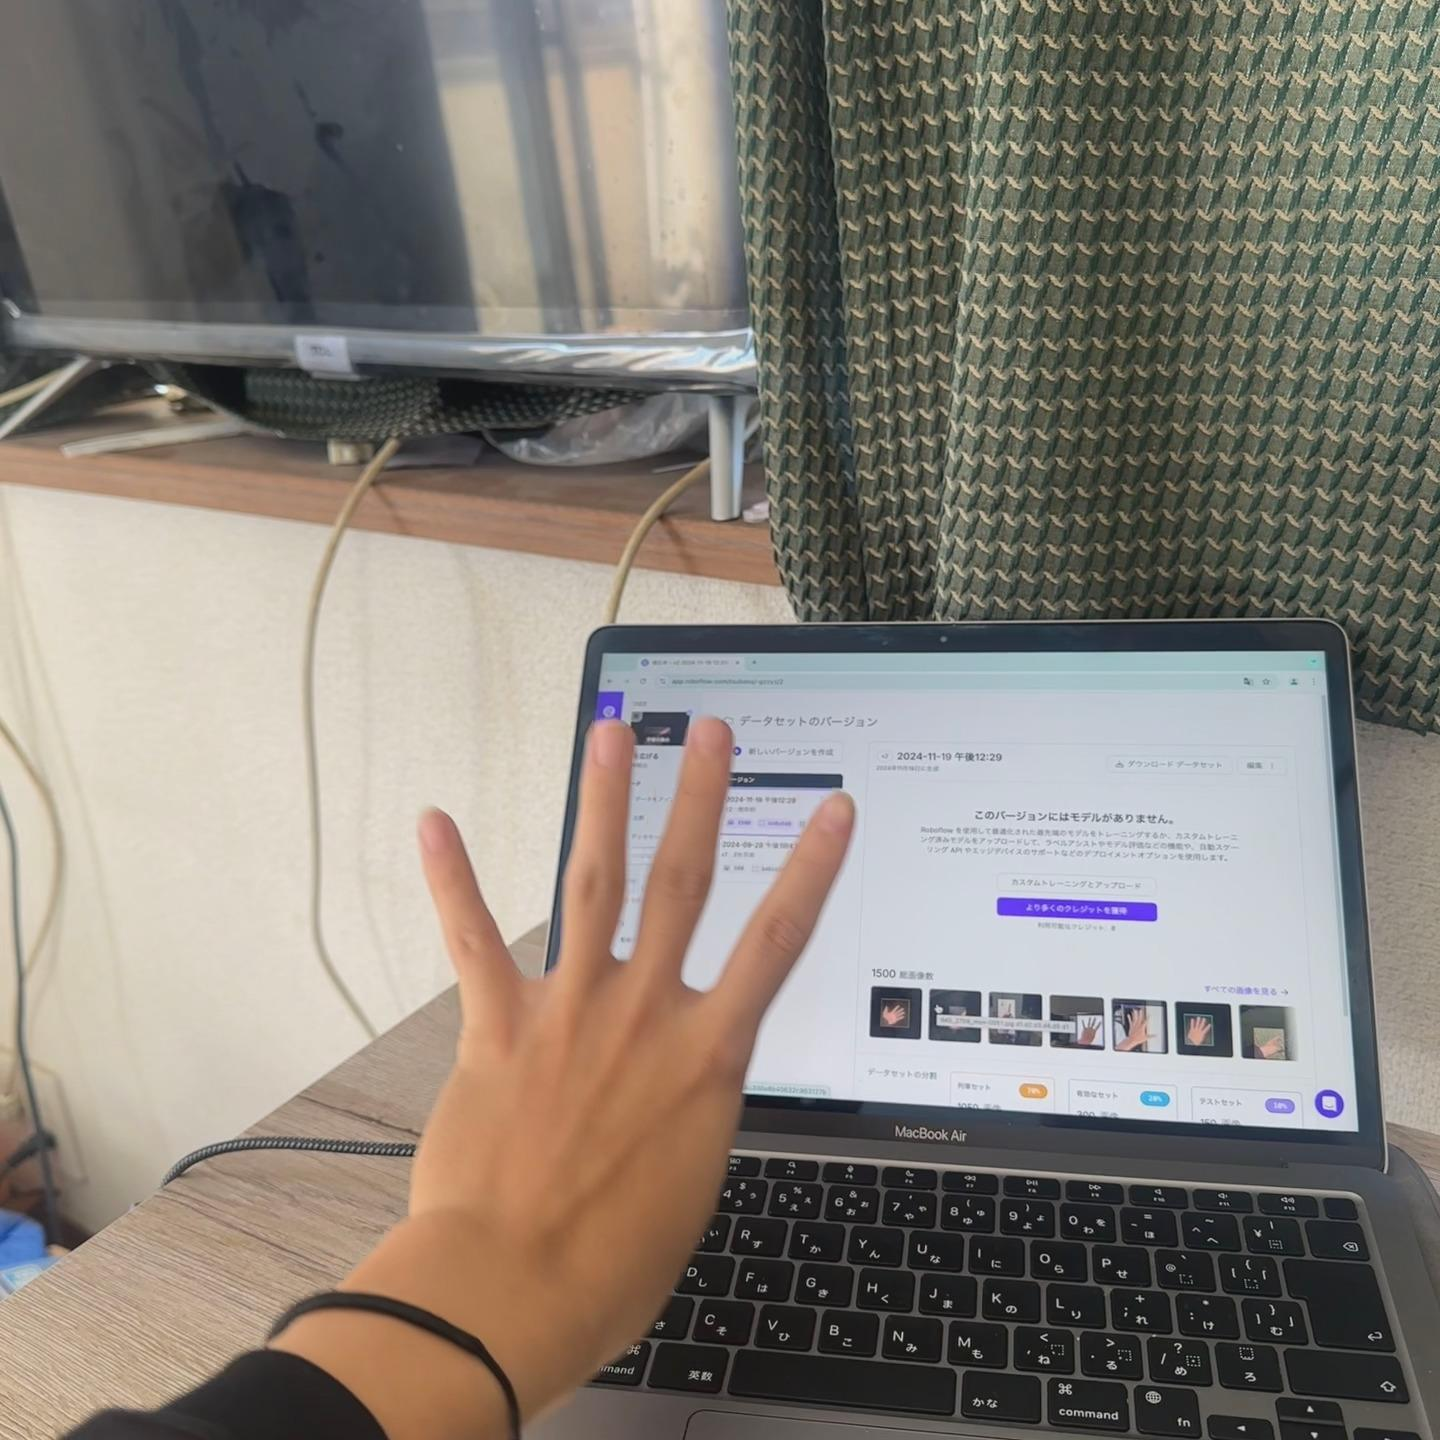without_gloves: (148, 452, 839, 1389)
